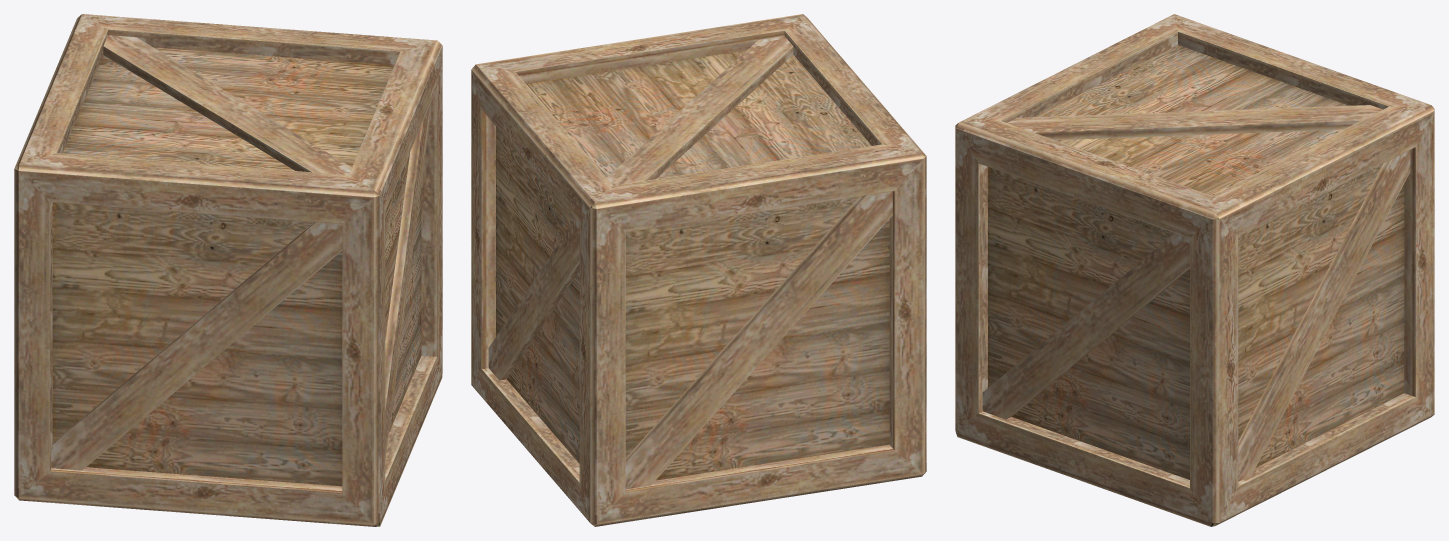
The model's file is pallettebox035_woodbox_dm_0_lev1.glb.
3 renders of one model, left to right at view 1: azimuth 30°, elevation 25°; view 2: azimuth 150°, elevation 25°; view 3: azimuth 270°, elevation 25°, orthographic. The views are drawn at different scales.
Visible parts, largest first — view 1: pallettebox035_woodbox_dm_0_lev1; view 2: pallettebox035_woodbox_dm_0_lev1; view 3: pallettebox035_woodbox_dm_0_lev1.
Part boxes in pixels (x1,y1,x2,y2): pallettebox035_woodbox_dm_0_lev1: (14, 14, 442, 526); pallettebox035_woodbox_dm_0_lev1: (471, 14, 926, 526); pallettebox035_woodbox_dm_0_lev1: (955, 14, 1434, 526).
Bounding box in the file's own units: 1.12 × 0.803 × 1.12.
Materials: 1 (1 with a texture image).
